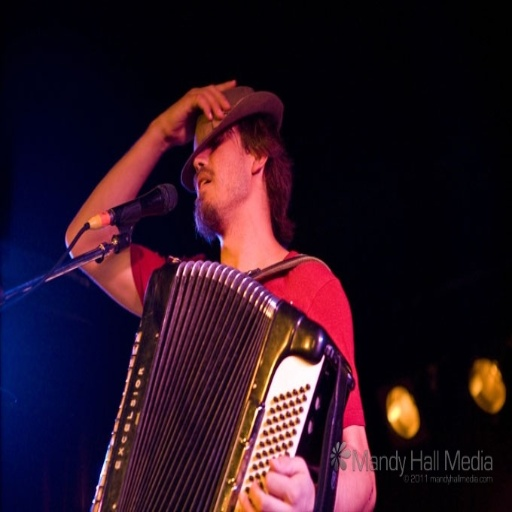hand: (154, 75, 237, 149), (267, 448, 314, 500)
